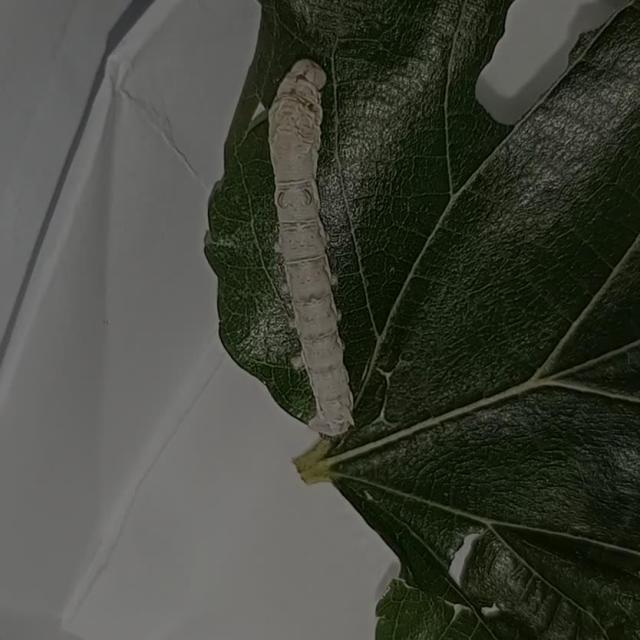Healthy: (256, 55, 366, 443)
